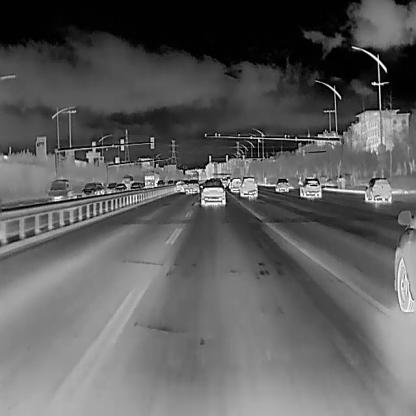car: (364, 175, 392, 204), (199, 177, 224, 206), (47, 178, 72, 201), (298, 176, 322, 198), (238, 176, 257, 197), (80, 180, 98, 198), (186, 178, 200, 194), (274, 176, 288, 192), (173, 178, 188, 192), (229, 176, 242, 192), (130, 180, 143, 194), (106, 180, 118, 194), (114, 182, 126, 193), (156, 178, 165, 188), (166, 178, 174, 187)
truck: (142, 172, 159, 188), (120, 173, 134, 191)
